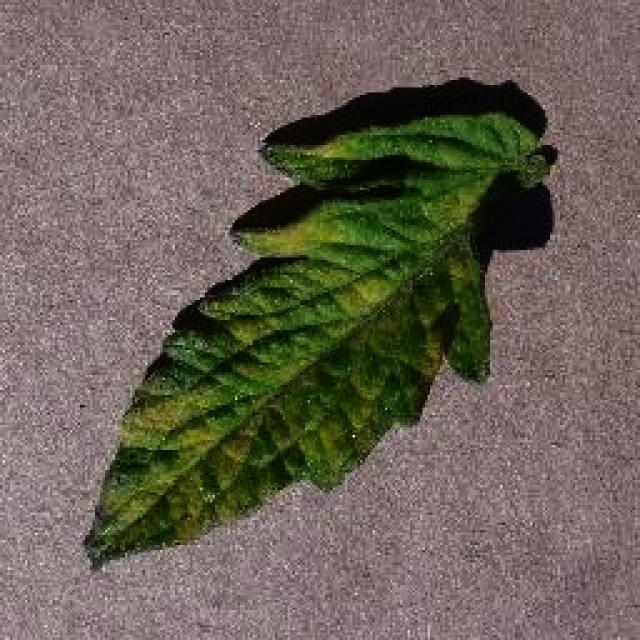Tomato mold leaf: (84, 110, 544, 578)
